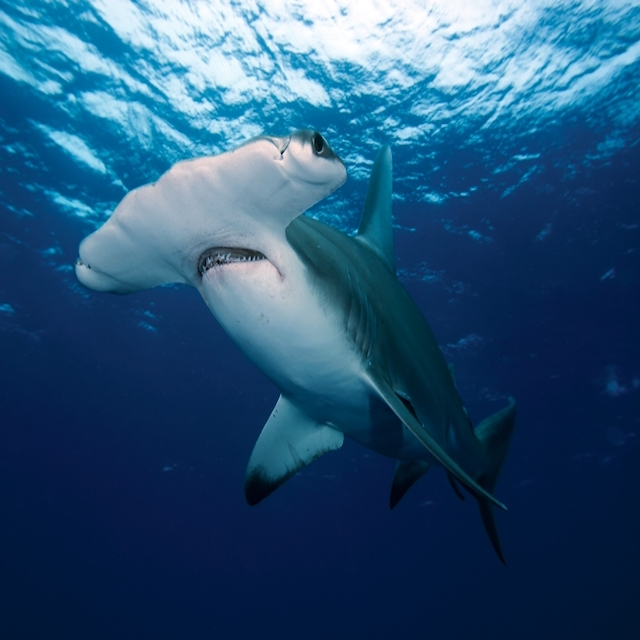hammerhead: (72, 109, 425, 429)
